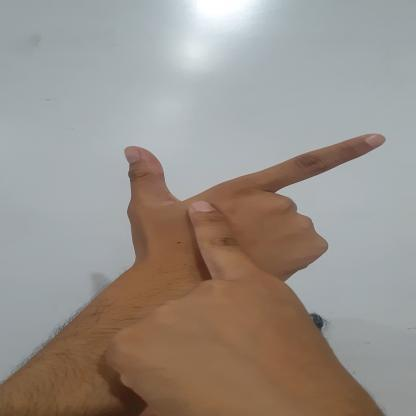Y: (124, 132, 388, 330)
